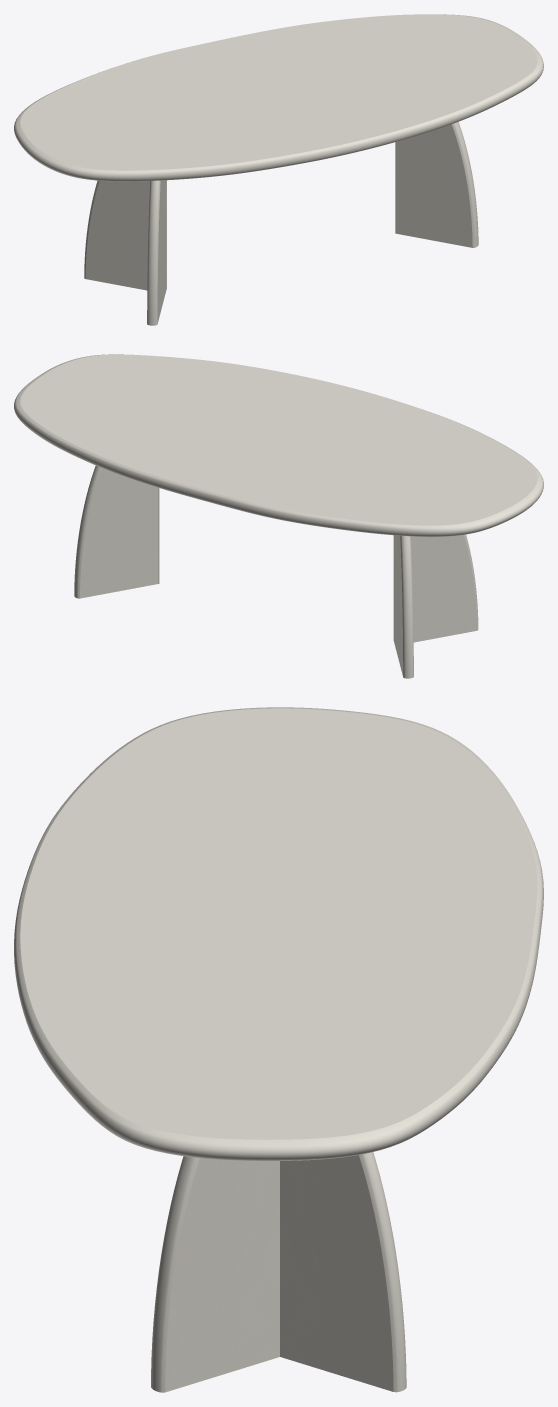
Rendered from pale_danish_round_newtable2.glb.
3 renders of one model, top to bottom at view 1: azimuth 30°, elevation 25°; view 2: azimuth 150°, elevation 25°; view 3: azimuth 270°, elevation 25°, orthographic. The views are drawn at different scales.
Visible parts, largest first — view 1: round_danish, newtable2_singleright2, newtable2_singleleft1, newtable2_singleright1; view 2: round_danish, newtable2_singleleft2, newtable2_singleright1, newtable2_singleleft1; view 3: round_danish, newtable2_singleright2, newtable2_singleleft2.
Part boxes in pixels (left/top/right/bottom): round_danish: left=14, top=14, right=543, bottom=181; newtable2_singleright2: left=395, top=122, right=478, bottom=247; newtable2_singleleft1: left=84, top=180, right=166, bottom=290; newtable2_singleright1: left=147, top=180, right=166, bottom=325; round_danish: left=14, top=354, right=543, bottom=536; newtable2_singleleft2: left=74, top=465, right=158, bottom=598; newtable2_singleright1: left=393, top=534, right=478, bottom=642; newtable2_singleleft1: left=394, top=535, right=413, bottom=678; round_danish: left=14, top=707, right=543, bottom=1160; newtable2_singleright2: left=151, top=1156, right=279, bottom=1392; newtable2_singleleft2: left=280, top=1152, right=406, bottom=1392.
Bounding box in the file's own units: 7.5 × 2.49 × 3.8.
Materials: 1 (1 with a texture image).
